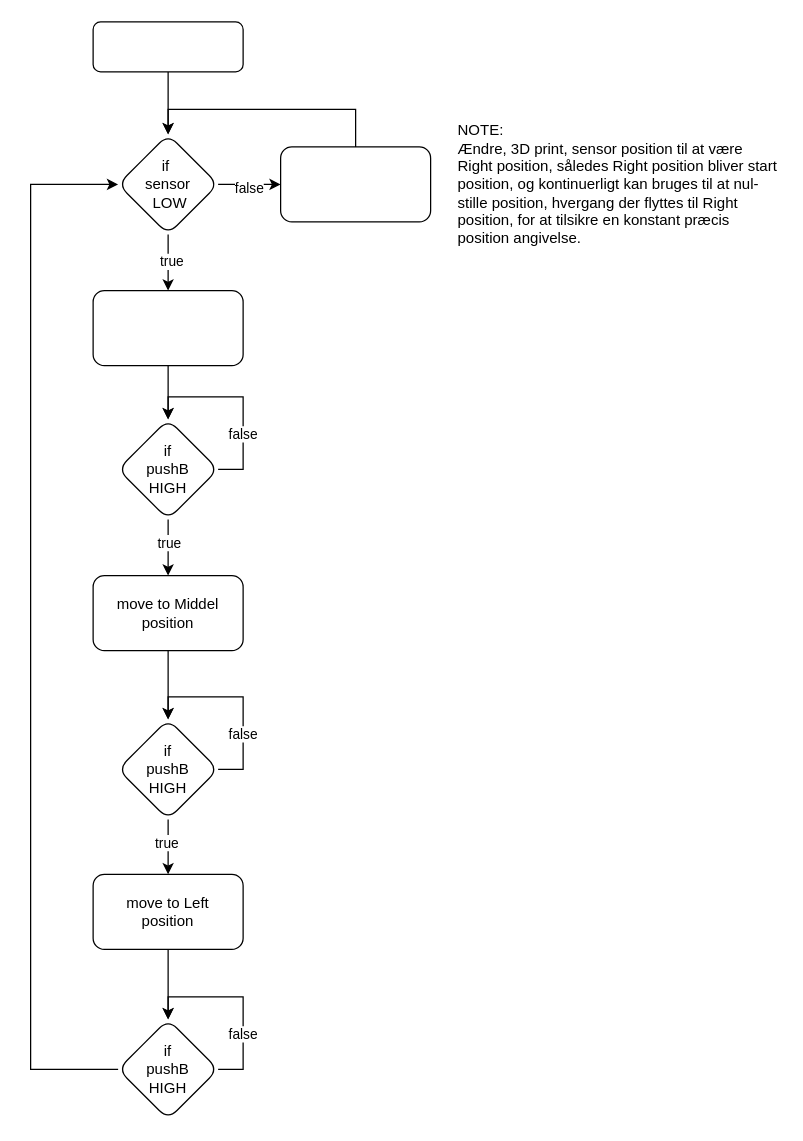
Image size: 803x1141. Some labels were removed from this diagram. The box of each missing label's shape, as (x1, y1, x2, y2) in pixels:
move Right: (279, 146, 431, 222)
move to Right position: (92, 289, 243, 366)
Power ON: (92, 21, 243, 72)
